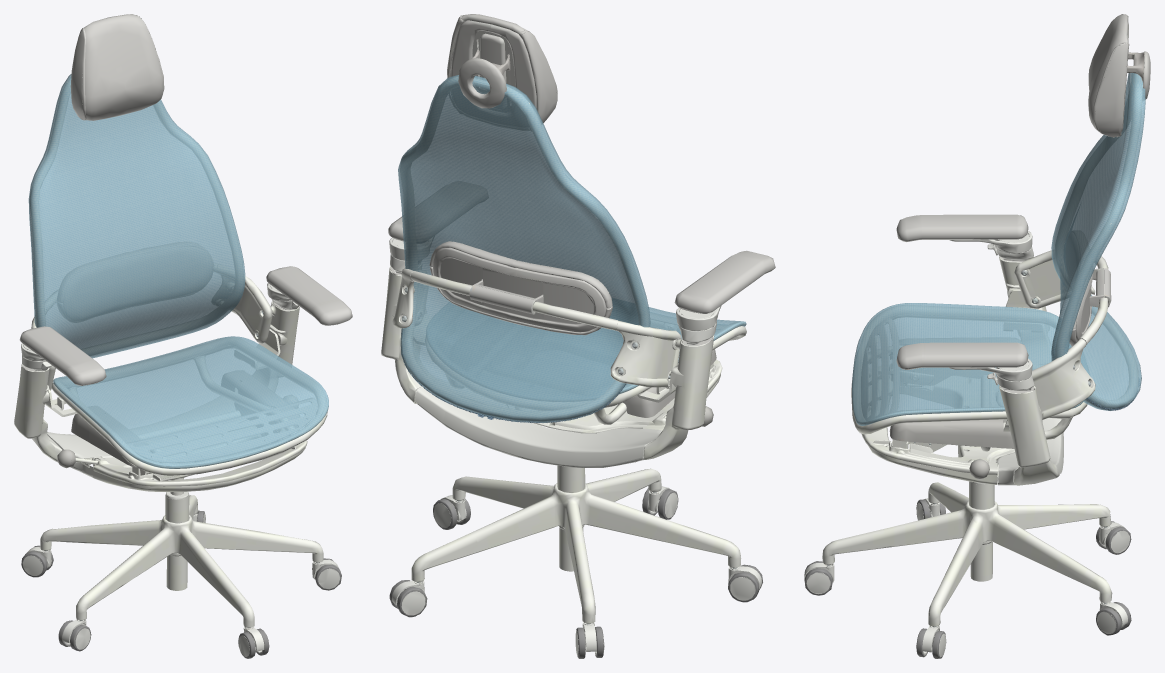
The model's file is bastboll_krzeso_gamingowe_80585960.glb.
3 renders of one model, left to right at view 1: azimuth 30°, elevation 25°; view 2: azimuth 150°, elevation 25°; view 3: azimuth 270°, elevation 25°, orthographic. The views are drawn at different scales.
Parts seen in each view (by area): view 1: bastboll_krzeso_gamingowe_80585960; view 2: bastboll_krzeso_gamingowe_80585960; view 3: bastboll_krzeso_gamingowe_80585960.
Part boxes in pixels (x1=…): bastboll_krzeso_gamingowe_80585960: x1=14, y1=14, x2=352, y2=658; bastboll_krzeso_gamingowe_80585960: x1=381, y1=14, x2=775, y2=658; bastboll_krzeso_gamingowe_80585960: x1=804, y1=14, x2=1150, y2=658.
Bounding box in the file's own units: 0.687 × 1.25 × 0.6928.
Materials: 2 (2 with a texture image).
